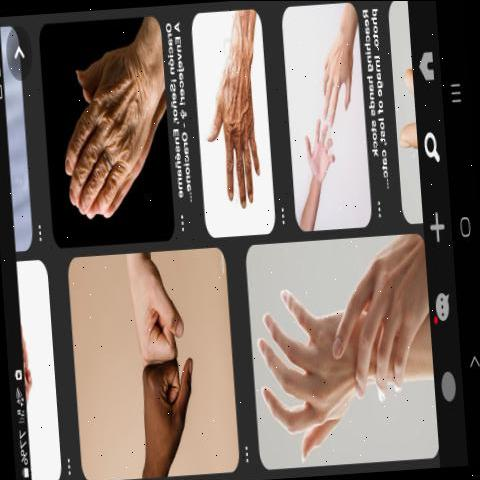Hands: (45, 43, 171, 231), (250, 276, 372, 466), (313, 251, 446, 410), (191, 21, 288, 230), (300, 12, 364, 132), (292, 116, 346, 238)
